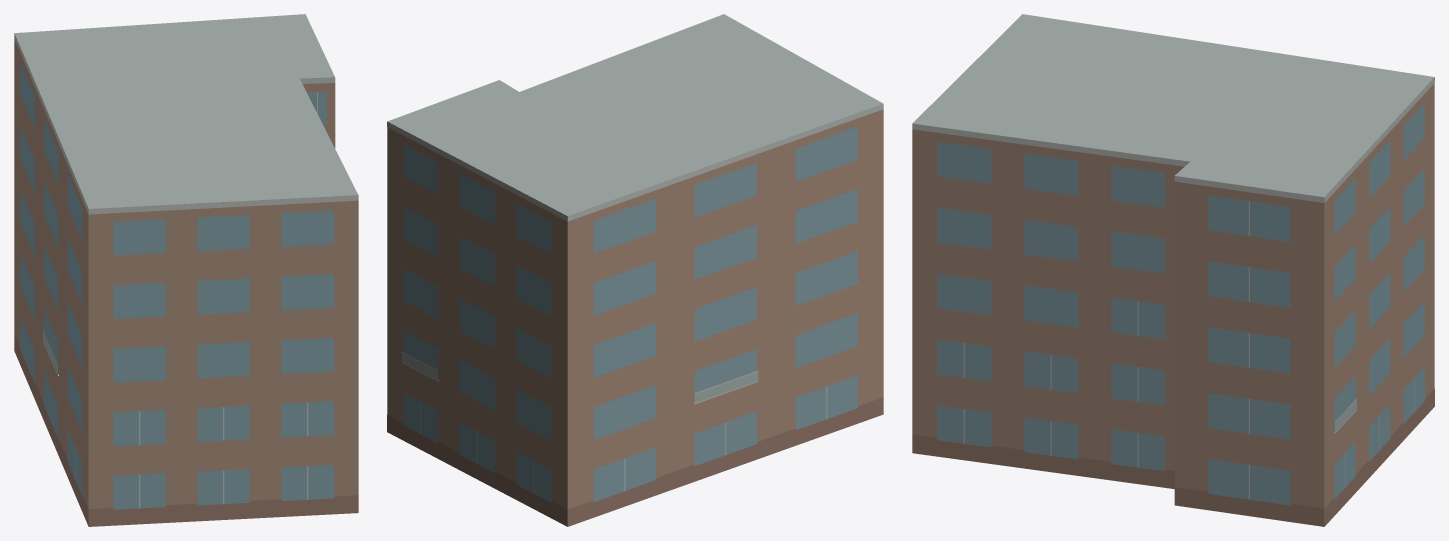
Rendered from survey-upis-32497923.glb.
3 views of the same model, side by side, from view 1: azimuth 30°, elevation 25°; view 2: azimuth 150°, elevation 25°; view 3: azimuth 270°, elevation 25° (orthographic). The views are drawn at different scales.
Visible parts, largest first — view 1: survey-upis-32497923.tmp; view 2: survey-upis-32497923.tmp; view 3: survey-upis-32497923.tmp.
Part boxes in pixels (bbox=[...]): survey-upis-32497923.tmp: bbox=[14, 14, 358, 526]; survey-upis-32497923.tmp: bbox=[387, 14, 883, 526]; survey-upis-32497923.tmp: bbox=[912, 14, 1434, 526].
Size of the model in its own units: 16.71 by 14 by 20.13.
